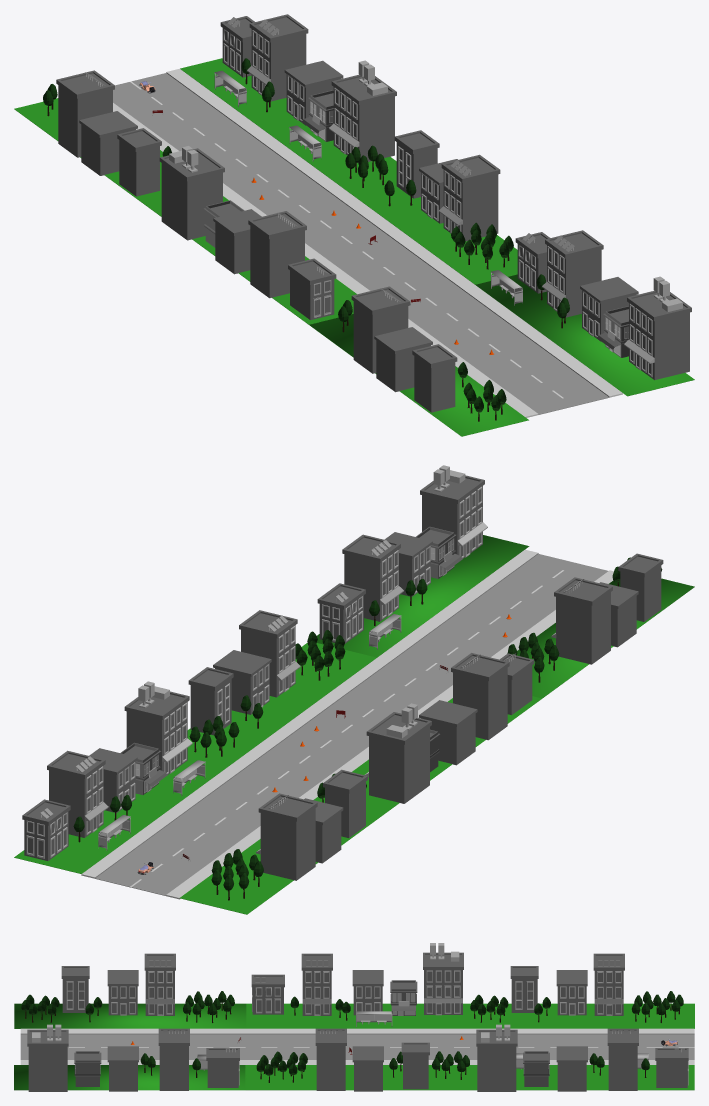
File: level1.FBX
The picture shows the model from 3 angles, top to bottom: view 1: azimuth 30°, elevation 25°; view 2: azimuth 150°, elevation 25°; view 3: azimuth 270°, elevation 25°; orthographic projection. The views are drawn at different scales.
Parts seen in each view (by area): view 1: Box023_Mesh_062, Box023_Mesh_063, yol003, yol2, yol, Object001; view 2: Box023_Mesh_062, Box023_Mesh_063, yol, yol2, yol003, Object001; view 3: Box023_Mesh_062, Box023_Mesh_063, Object001, yol2, yol003, yol, durak33.
Part boxes in pixels (<box>): Box023_Mesh_062: <box>14,14,517,324</box>; Box023_Mesh_063: <box>338,230,691,421</box>; yol003: <box>408,285,622,417</box>; yol2: <box>231,177,474,300</box>; yol: <box>113,68,327,200</box>; Object001: <box>309,274,694,436</box>; Box023_Mesh_062: <box>14,610,541,914</box>; Box023_Mesh_063: <box>317,465,663,682</box>; yol: <box>81,766,318,899</box>; yol2: <box>230,658,452,787</box>; yol003: <box>377,549,613,676</box>; Object001: <box>317,535,694,698</box>; Box023_Mesh_062: <box>245,943,694,1091</box>; Box023_Mesh_063: <box>21,953,239,1091</box>; Object001: <box>14,1003,246,1090</box>; yol2: <box>245,1028,469,1064</box>; yol003: <box>20,1028,245,1064</box>; yol: <box>470,1028,694,1064</box>; durak33: <box>356,1014,392,1026</box>.
Size of the model in its own units: 3768 by 1214 by 11918.
